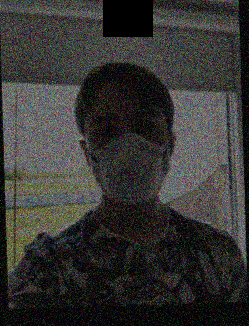with_mask: (82, 100, 174, 204)
